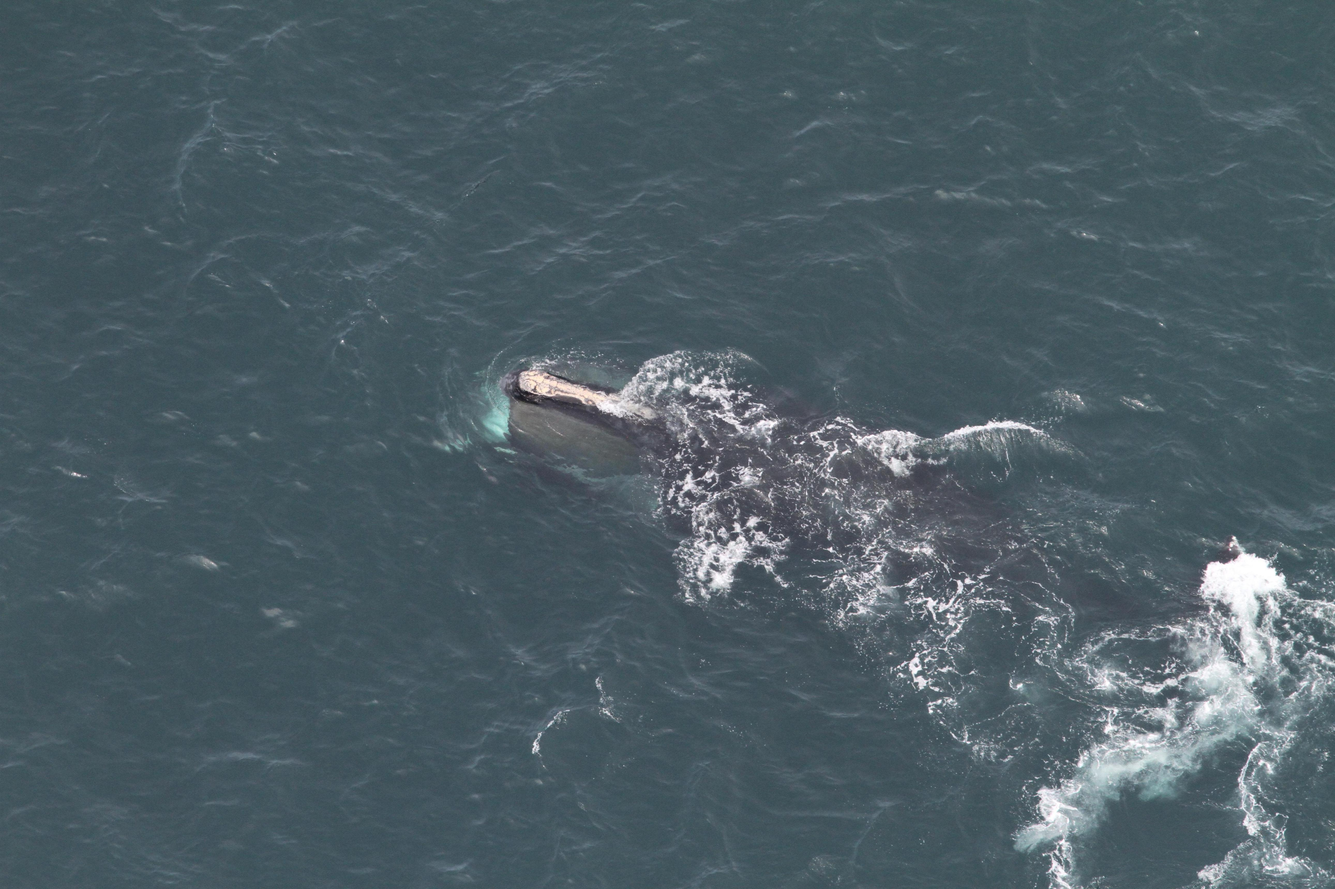whale: (465, 347, 1120, 628)
